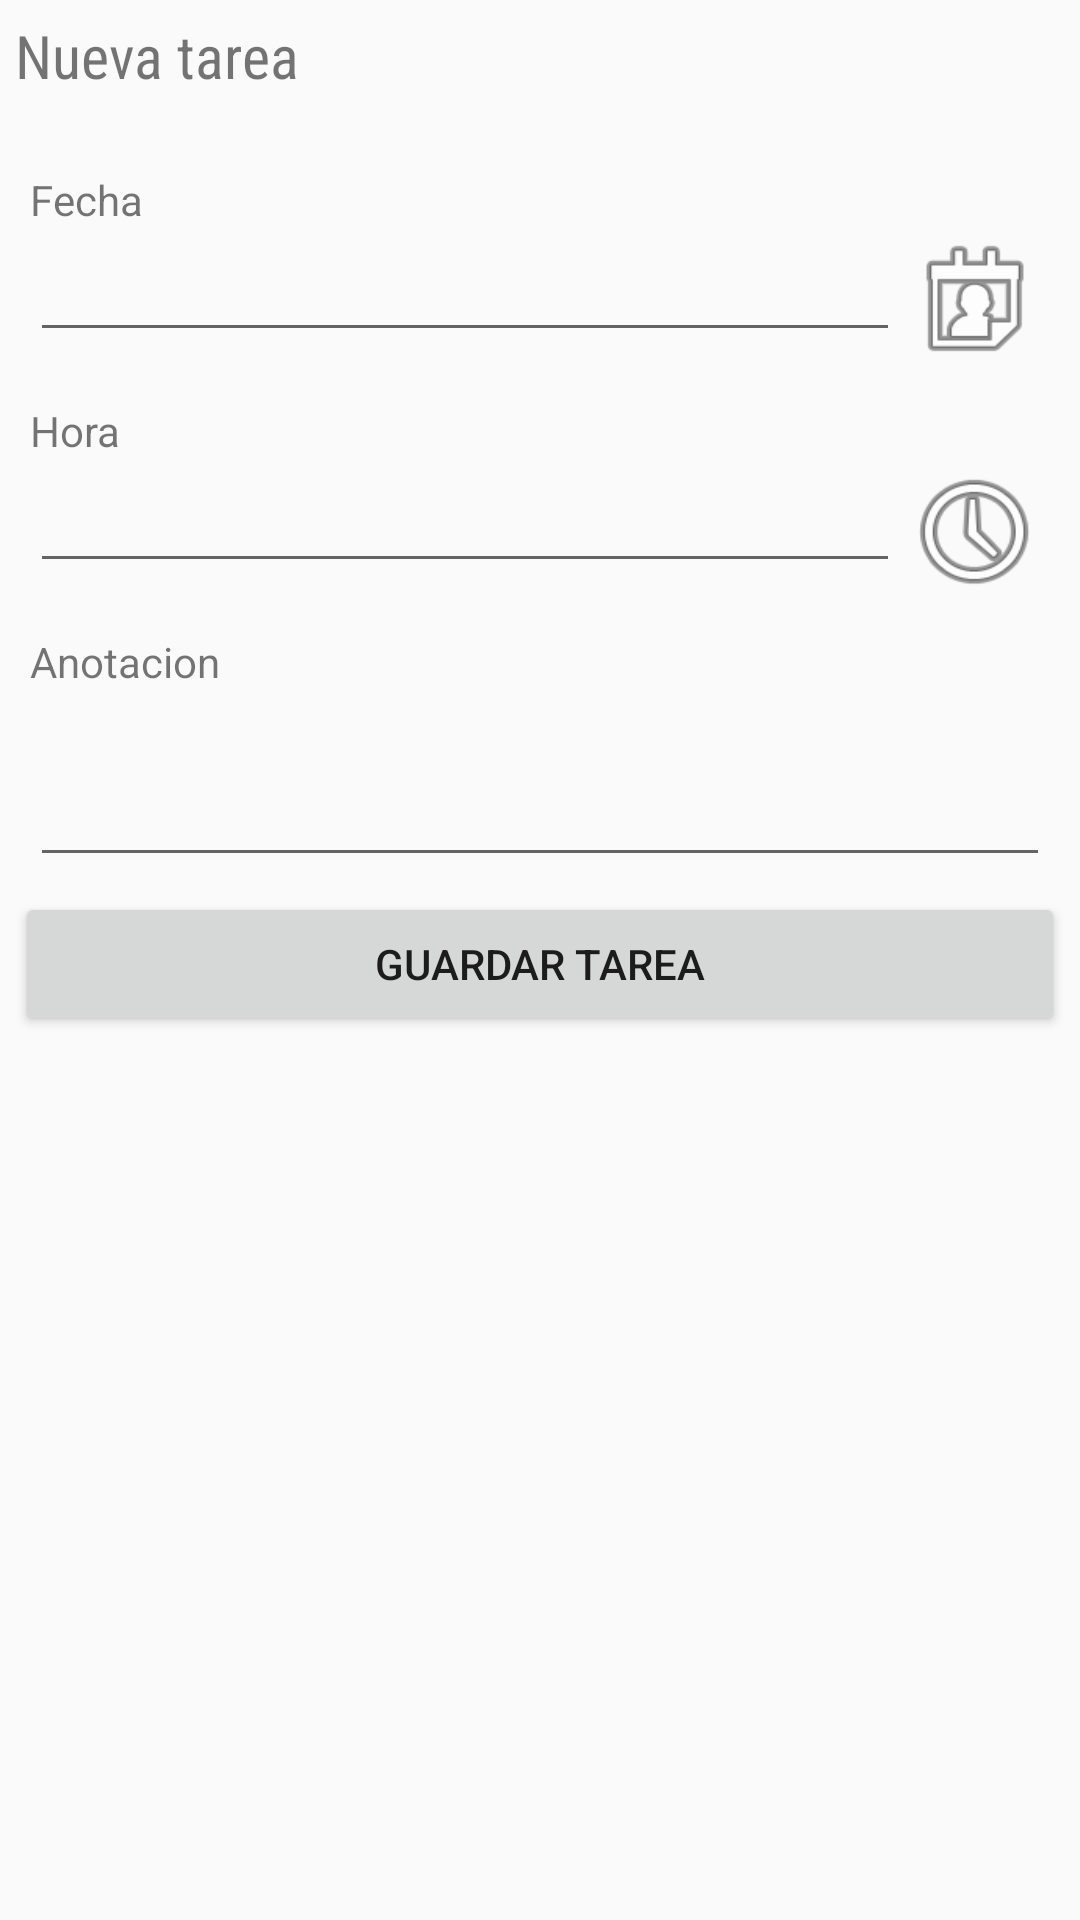

Icon bounding boxes for this 1080x1920 phone screenshot, format detection(x1, y1, x2, y2):
calendar: detection(926, 246, 1024, 351)
